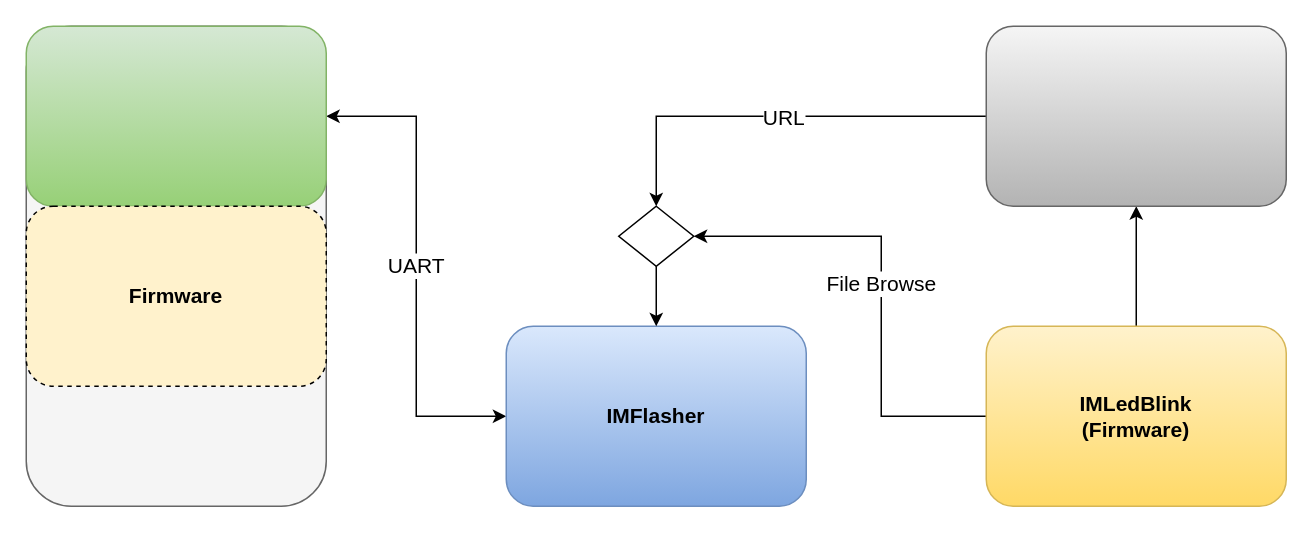
The diagram is 1313 pixels wide and 533 high, and some of its shapes have lost their labels. Each missing label, with the box of its shape:
IMBootloader: (25, 25, 326, 206)
Server: (985, 25, 1286, 206)
